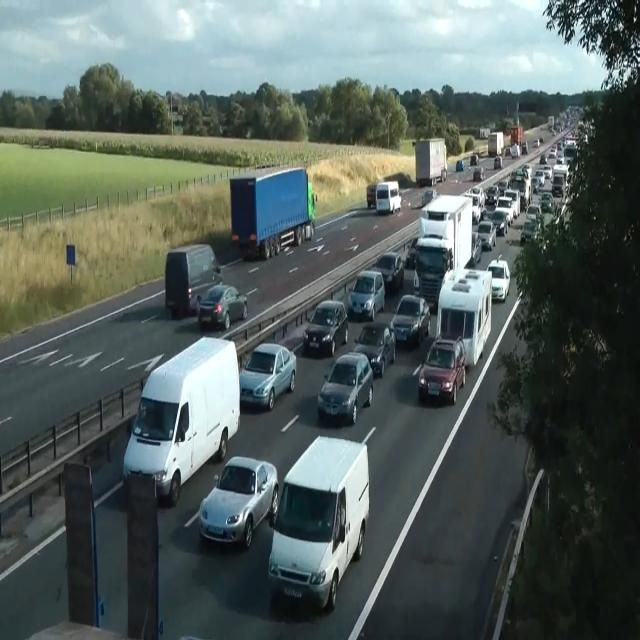bus: (198, 455, 278, 549), (317, 351, 373, 425), (238, 342, 296, 411), (418, 337, 466, 405), (302, 299, 348, 356), (352, 322, 396, 378), (195, 284, 248, 330), (389, 293, 431, 346), (347, 269, 385, 321), (372, 252, 404, 292), (486, 258, 510, 301), (476, 220, 496, 250), (494, 196, 514, 224), (489, 210, 509, 236), (520, 218, 538, 242), (406, 236, 418, 268), (471, 232, 481, 266), (539, 192, 555, 213), (422, 188, 438, 206), (485, 185, 499, 204), (526, 204, 540, 222), (366, 184, 376, 208), (472, 167, 484, 181), (497, 180, 507, 194), (510, 145, 520, 158), (494, 156, 502, 170), (469, 153, 478, 165), (456, 159, 464, 172), (521, 140, 528, 154), (532, 138, 540, 148), (539, 153, 547, 163), (549, 148, 557, 158), (504, 146, 510, 156), (538, 136, 544, 143)
jeep: (268, 433, 370, 611), (164, 242, 222, 316), (412, 235, 452, 310)
minibus: (122, 335, 240, 507), (229, 166, 317, 260), (435, 268, 492, 368), (418, 195, 472, 270), (411, 137, 447, 187), (460, 186, 486, 224), (375, 180, 401, 214), (488, 132, 503, 156), (510, 125, 522, 147), (480, 127, 490, 139), (548, 116, 554, 130)
